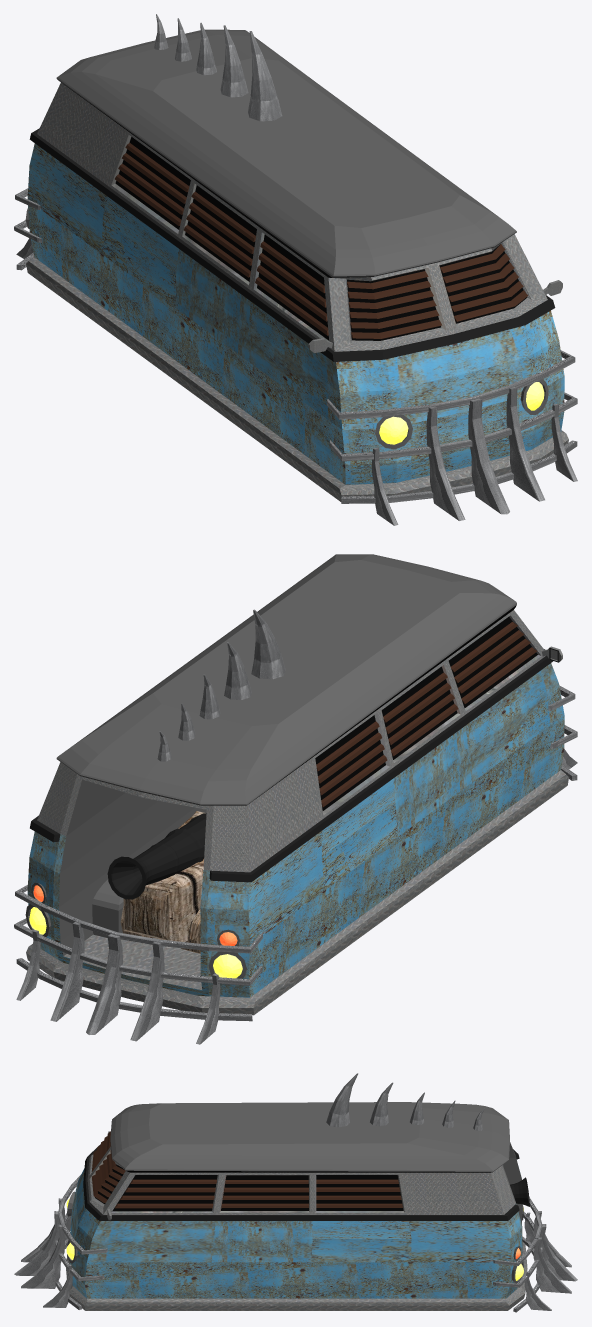
Rendered from Rocketere.fbx.
3 renders of one model, top to bottom at view 1: azimuth 30°, elevation 25°; view 2: azimuth 150°, elevation 25°; view 3: azimuth 270°, elevation 25°, orthographic. The views are drawn at different scales.
Parts seen in each view (by area): view 1: body, HOOD, BOTTOM, BUMPERS, Cube.001, Cone, flight; view 2: body, HOOD, BOTTOM, BUMPERS, cannon holder, Cube.001, cannon, Cone, blightyellow; view 3: body, HOOD, BOTTOM, BUMPERS, Cube.001, Cone, cannon, flight.
Boxes of the visible parts, x1,y1,x2,y2 form: body: [27, 82, 564, 429]; HOOD: [56, 29, 516, 277]; BOTTOM: [26, 205, 568, 501]; BUMPERS: [14, 188, 577, 525]; Cube.001: [29, 128, 555, 361]; Cone: [154, 14, 282, 121]; flight: [375, 379, 548, 449]; body: [27, 610, 564, 997]; HOOD: [56, 554, 516, 805]; BOTTOM: [26, 715, 568, 1015]; BUMPERS: [14, 685, 577, 1044]; cannon holder: [120, 811, 205, 953]; Cube.001: [30, 649, 553, 882]; cannon: [107, 813, 206, 899]; Cone: [157, 609, 285, 761]; blightyellow: [25, 904, 246, 984]; body: [70, 1131, 522, 1298]; HOOD: [110, 1102, 509, 1172]; BOTTOM: [66, 1227, 527, 1310]; BUMPERS: [14, 1175, 577, 1312]; Cube.001: [83, 1144, 519, 1220]; Cone: [326, 1073, 484, 1130]; cannon: [510, 1177, 529, 1206]; flight: [66, 1191, 77, 1263].
Bounding box in the file's own units: 444 × 515 × 1272.
